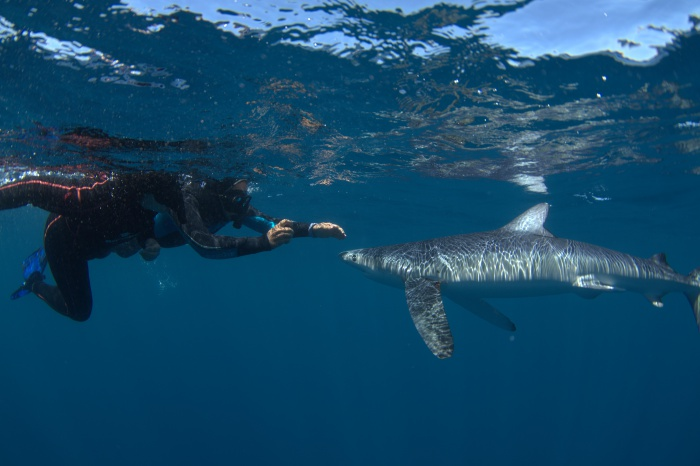Azul: (340, 183, 700, 371)
